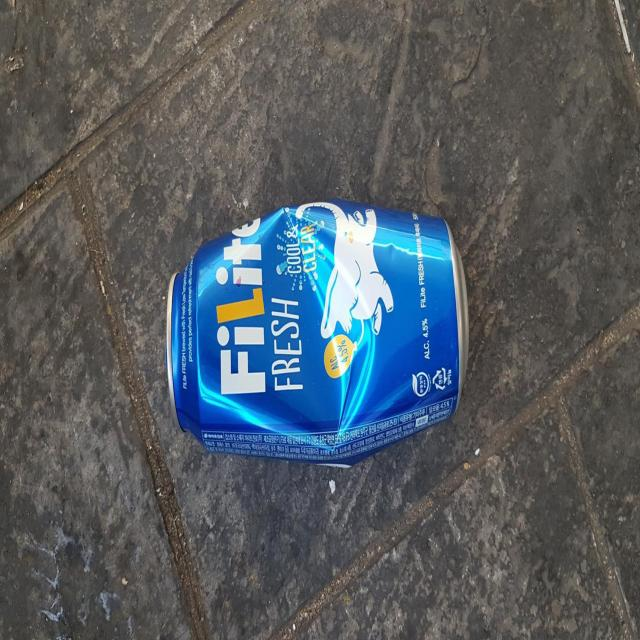can: (165, 198, 469, 466)
